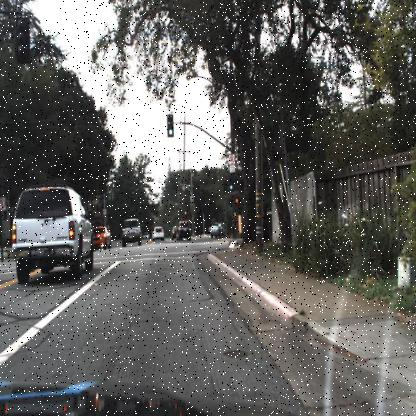car: (11, 184, 94, 282), (121, 217, 141, 248), (93, 225, 112, 251), (176, 218, 192, 240), (211, 221, 226, 241), (152, 225, 164, 242)
trafficLight-Green: (166, 112, 174, 137), (228, 174, 234, 192)
